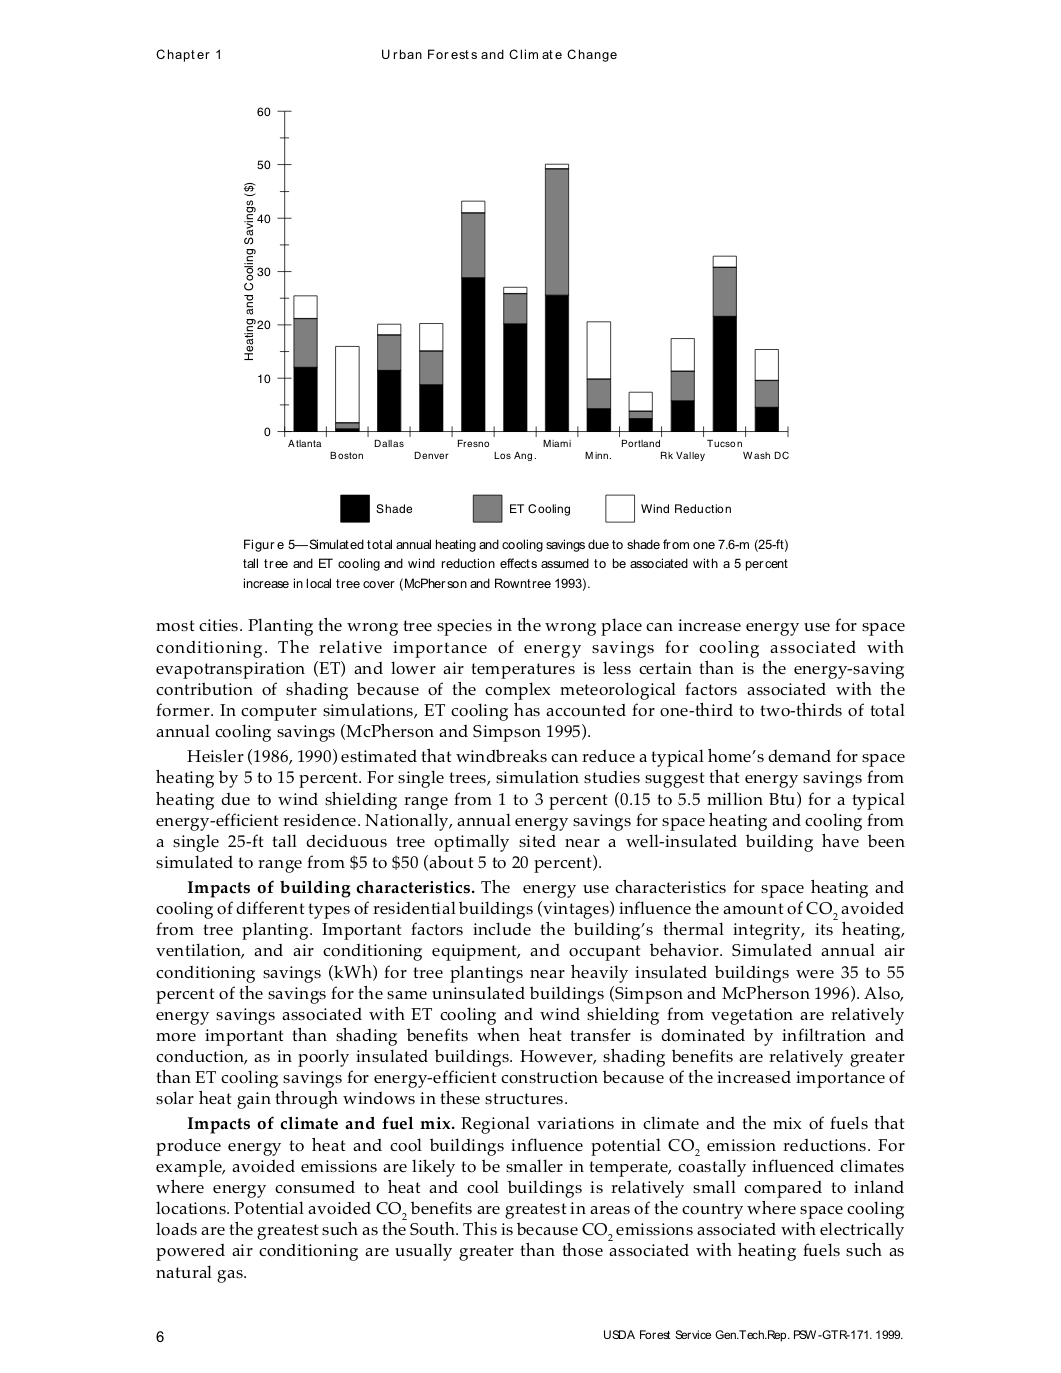figure: (243, 107, 788, 461), (340, 494, 730, 522)
